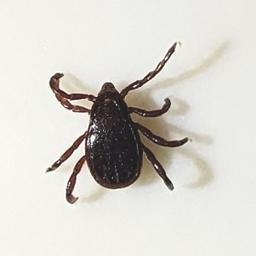Rhipicephalus sanguineus: (46, 41, 191, 204)
